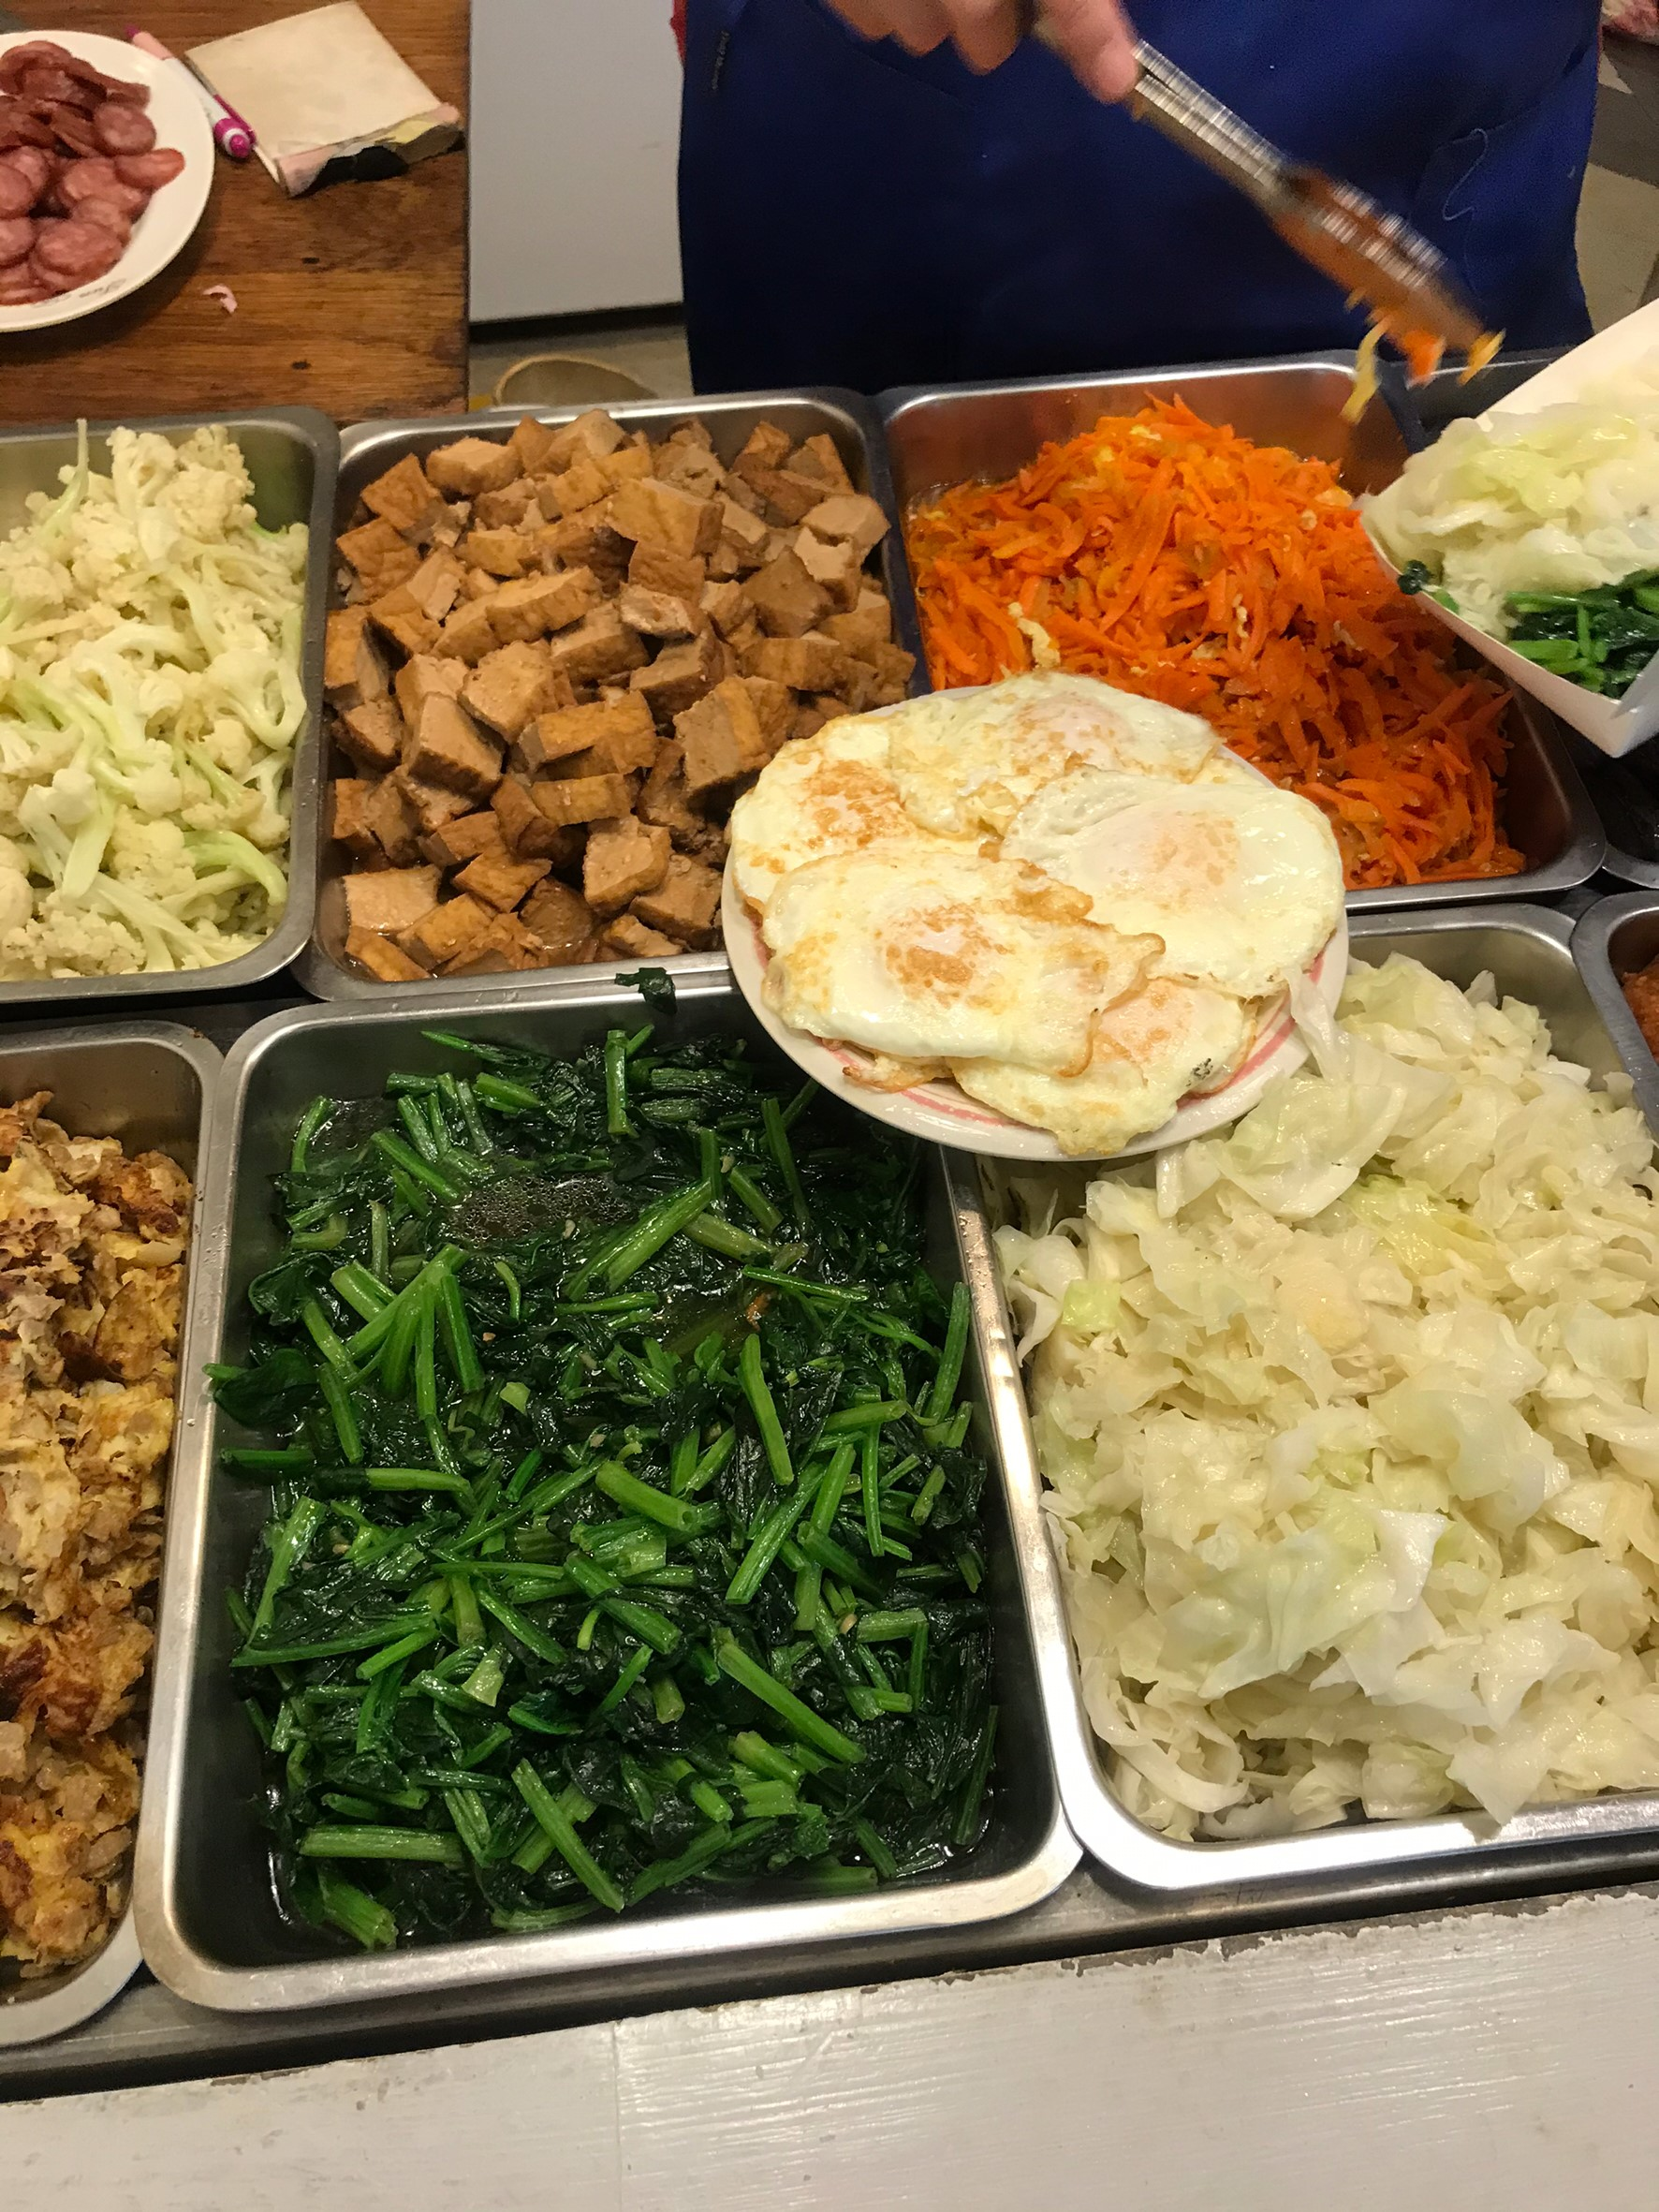carrot_eggs: (978, 424, 1377, 722)
chinese_cabbage: (1129, 1086, 1638, 1832), (1429, 420, 1642, 561)
chinese_sausage: (2, 52, 155, 298)
fried_eggs: (746, 675, 1326, 1128)
water_spinach: (260, 1025, 999, 1942), (1547, 586, 1659, 704)
